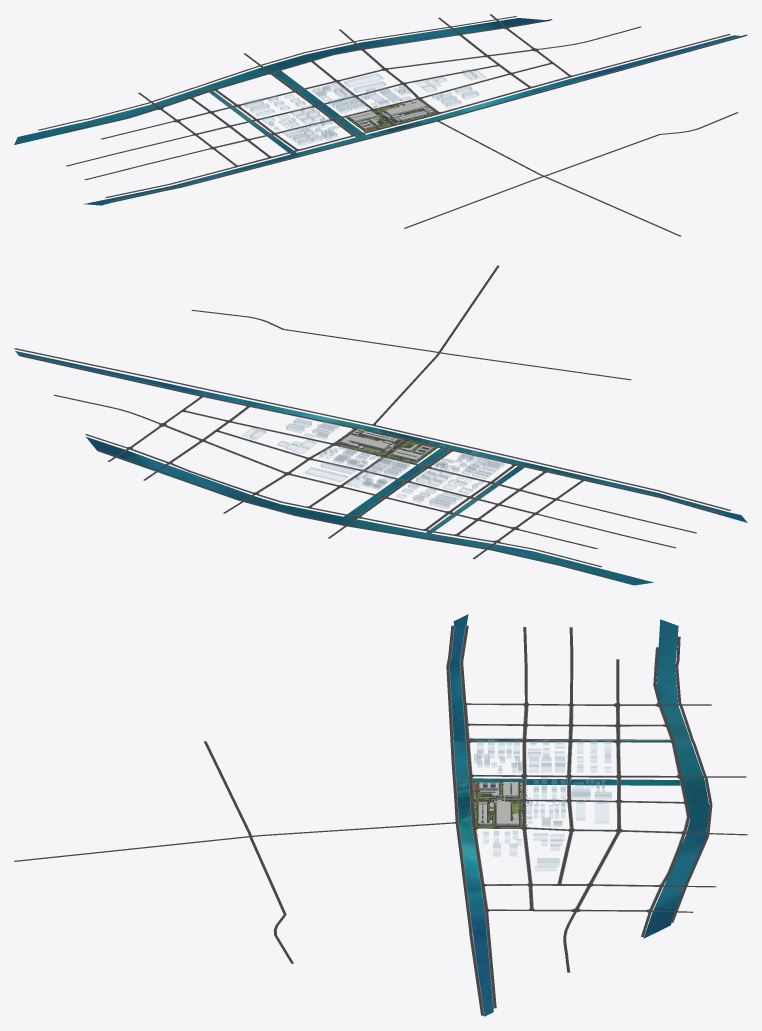
3 views of the same model, one above another, from view 1: azimuth 30°, elevation 25°; view 2: azimuth 150°, elevation 25°; view 3: azimuth 270°, elevation 25° (orthographic). The views are drawn at different scales.
Visible parts, largest first — view 1: dx-, shui-, jz-; view 2: dx-, shui-, jz-; view 3: dx-, shui-, jz-.
Boxes of the visible parts, x1=… form: dx-: x1=38, y1=14, x2=747, y2=236; shui-: x1=14, y1=18, x2=744, y2=205; jz-: x1=244, y1=69, x2=485, y2=145; dx-: x1=14, y1=265, x2=730, y2=578; shui-: x1=15, y1=351, x2=747, y2=585; jz-: x1=242, y1=418, x2=504, y2=508; dx-: x1=14, y1=625, x2=747, y2=1015; shui-: x1=449, y1=614, x2=709, y2=1016; jz-: x1=474, y1=739, x2=611, y2=870.
Bounding box in the file's own units: 7026 × 69.62 × 5404.
34 materials, 27 textured.
